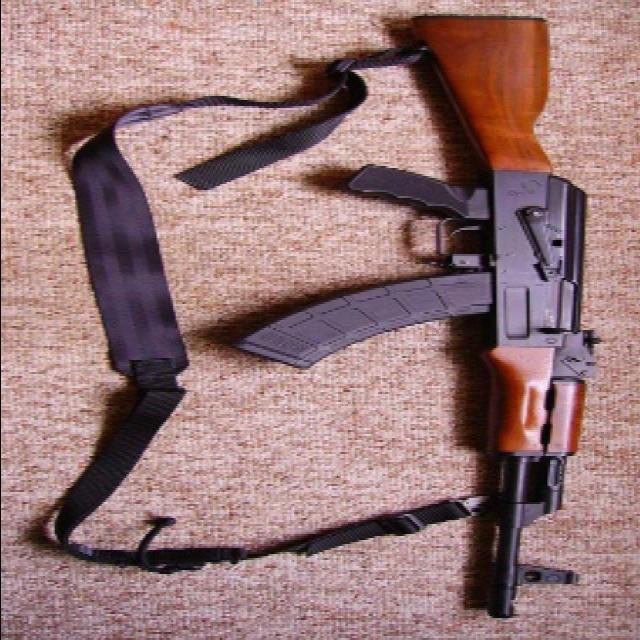rifle: (235, 7, 613, 615)
